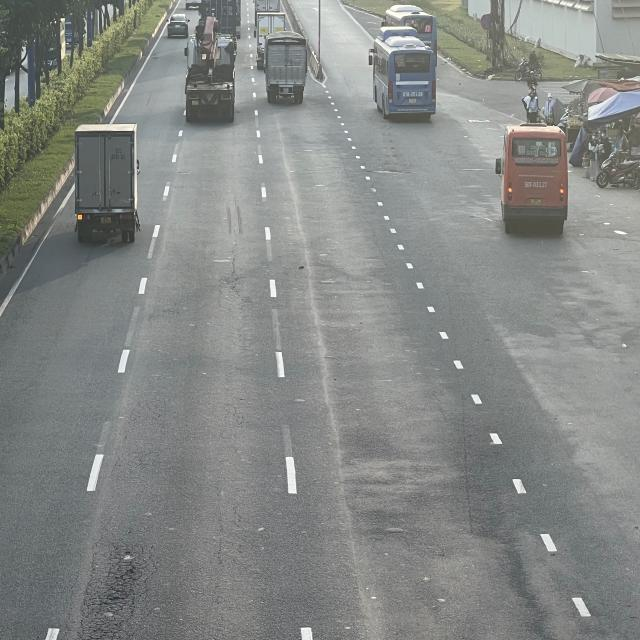car: (167, 11, 191, 37)
coach: (370, 36, 438, 120)
truck: (76, 121, 142, 240), (186, 19, 238, 122), (267, 34, 309, 105), (254, 11, 286, 70)
van: (501, 124, 572, 230)
